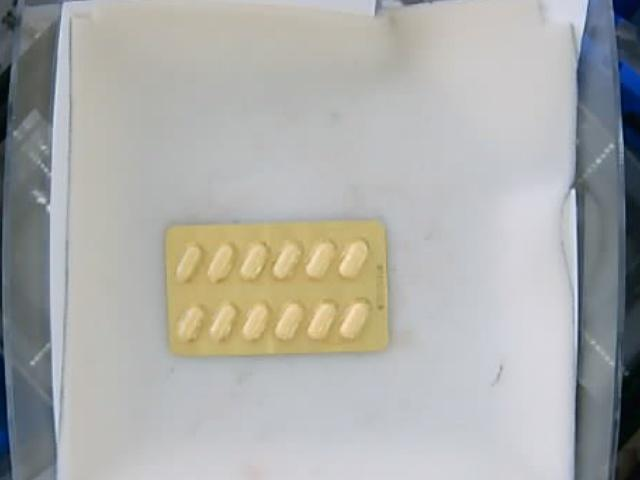Medicine: (163, 224, 389, 356)
